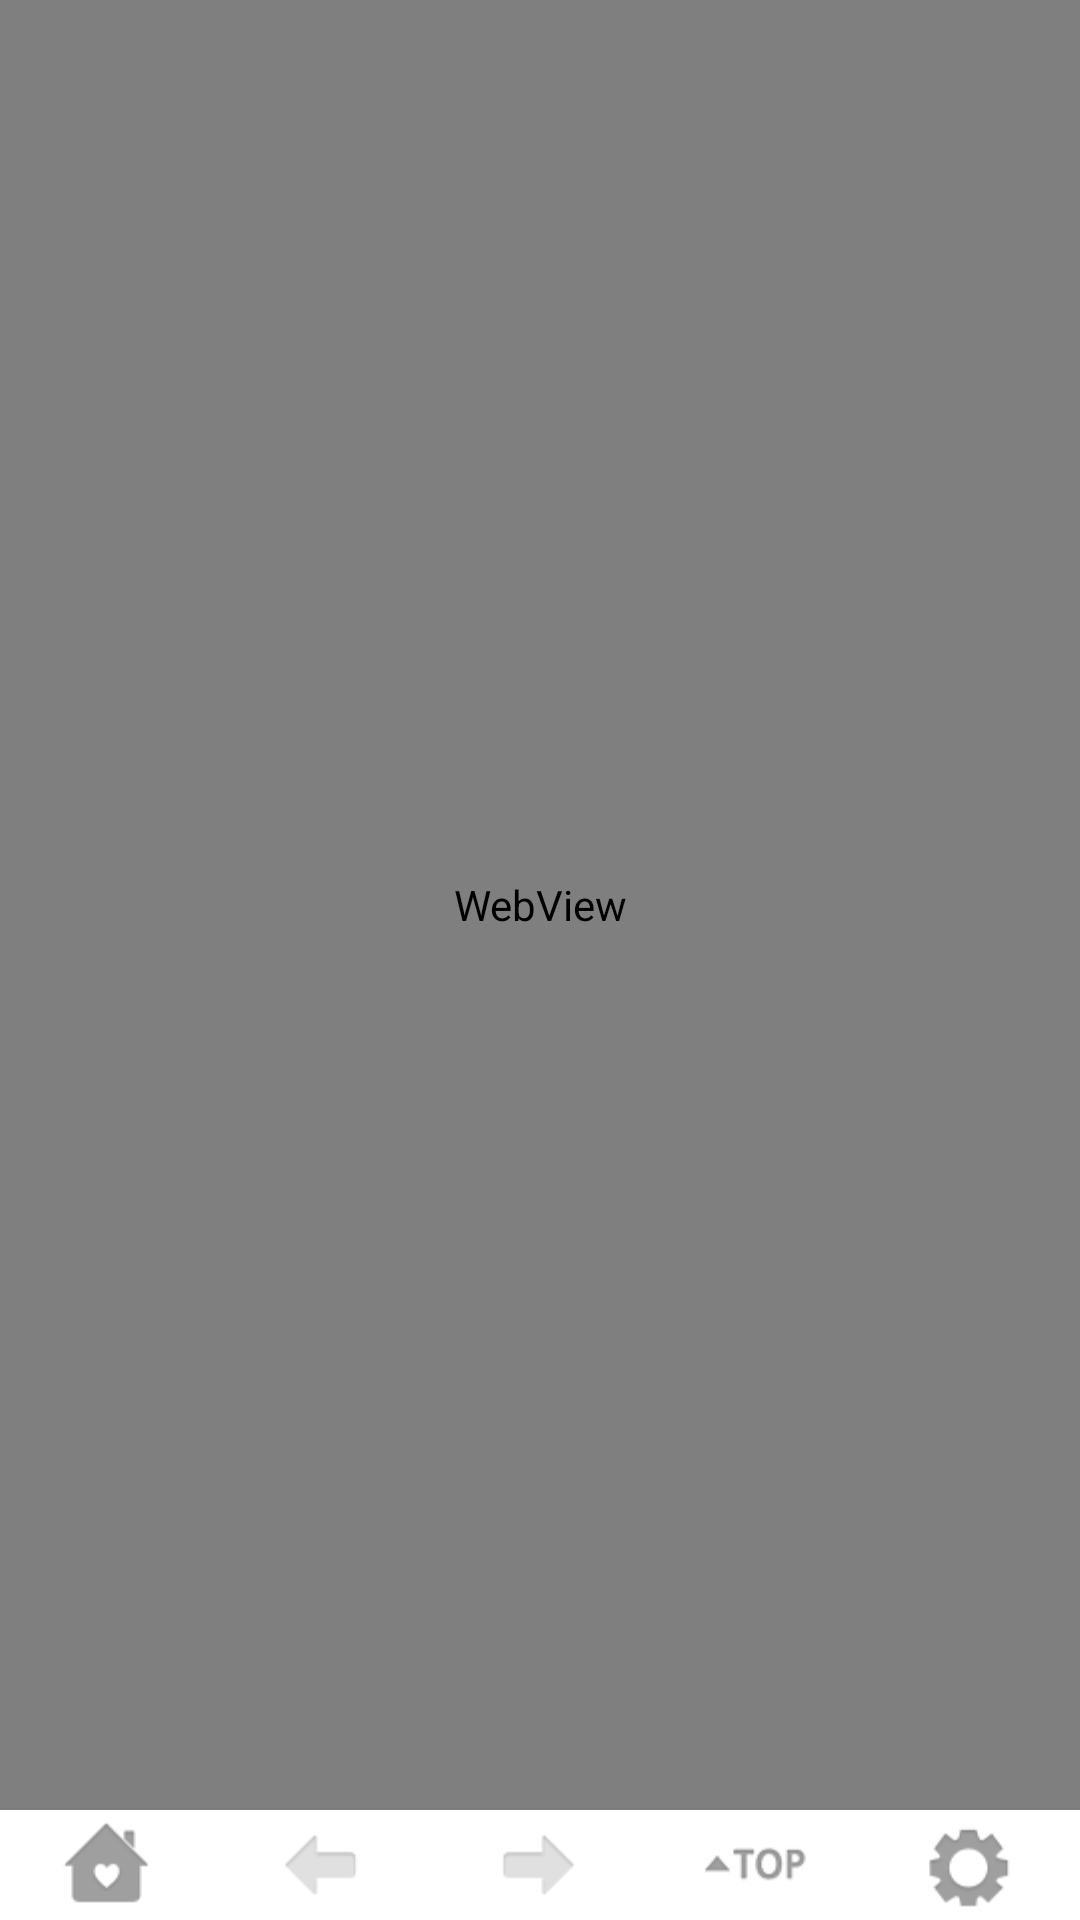

Icons on this 1080px x 1920px Android screen, each with its box as (x1, y1, x2, y2):
backward disable: (286, 1836, 356, 1894)
forward disable: (503, 1836, 573, 1894)
home: (65, 1823, 148, 1902)
settings: (929, 1829, 1008, 1906)
